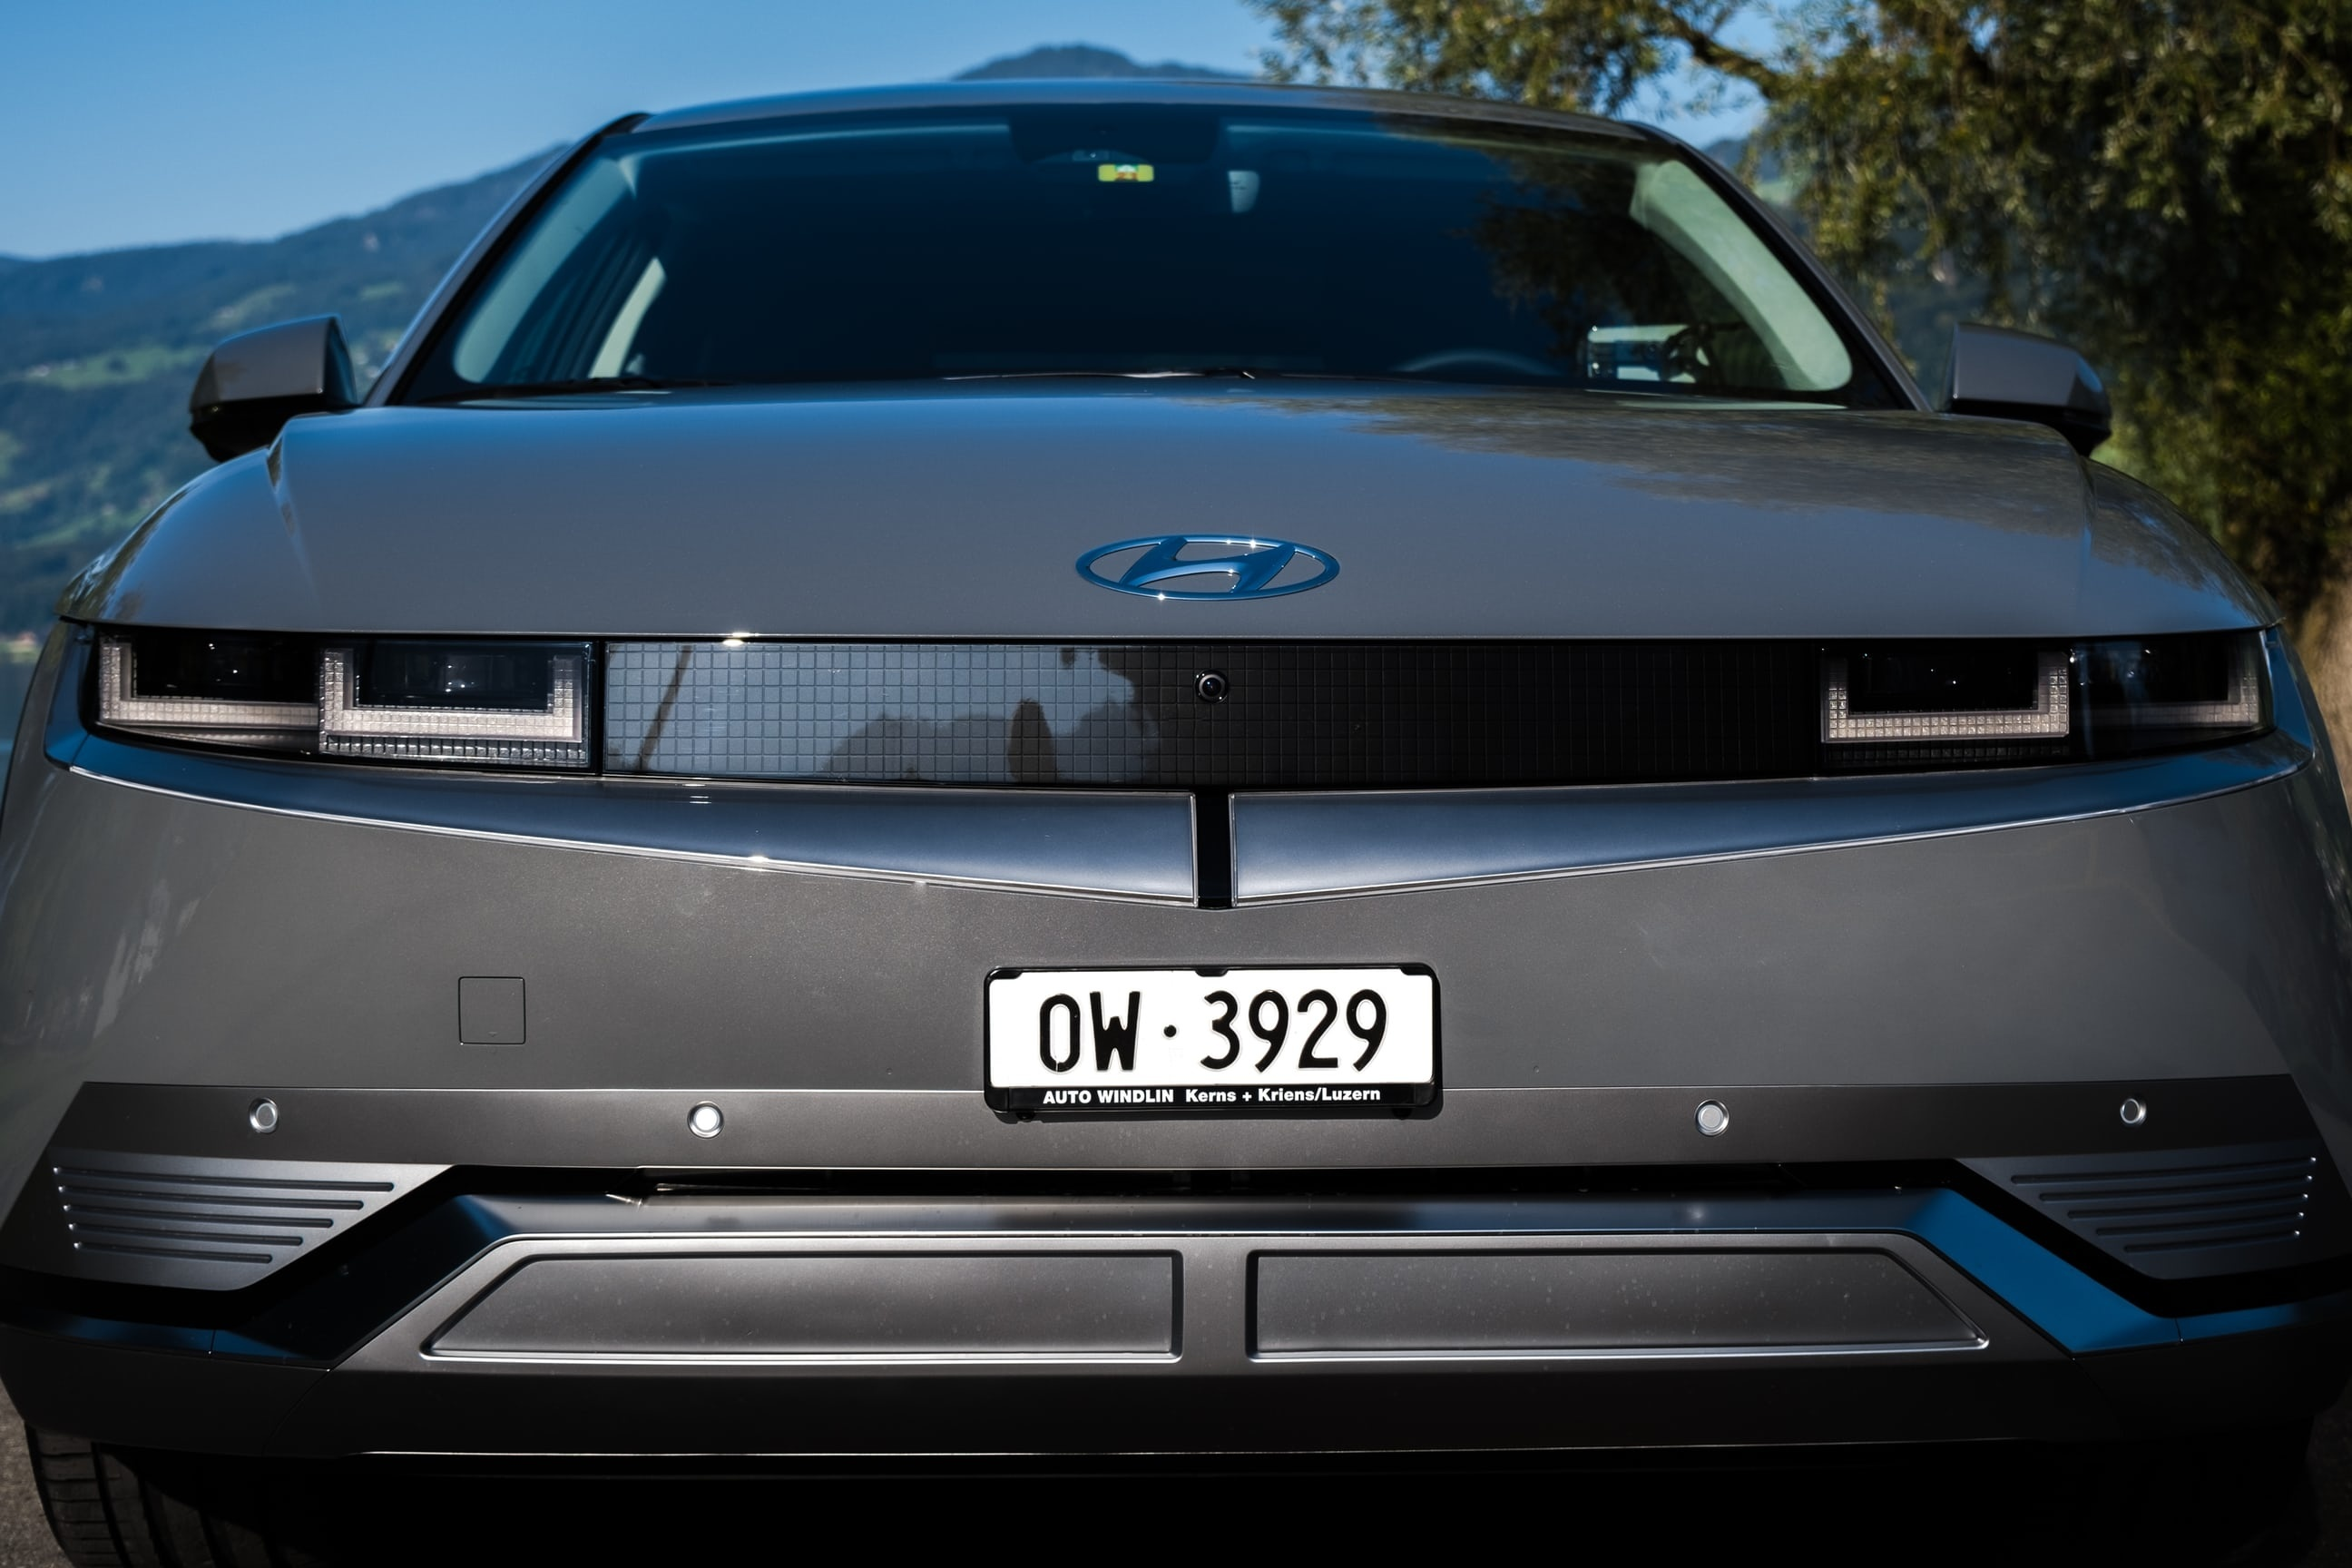plaka: (983, 963, 1439, 1093)
